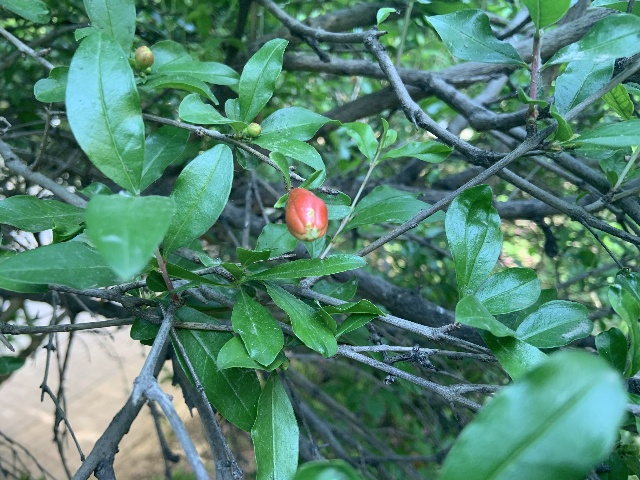bud: (285, 186, 328, 241), (134, 45, 154, 72), (247, 122, 261, 137)
